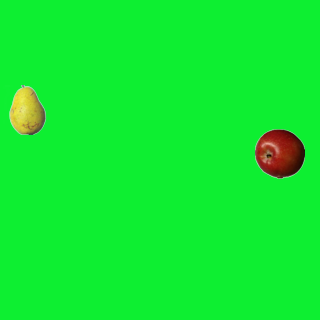Apple Braeburn: (254, 128, 304, 178)
Pear Monster: (2, 84, 52, 134)
